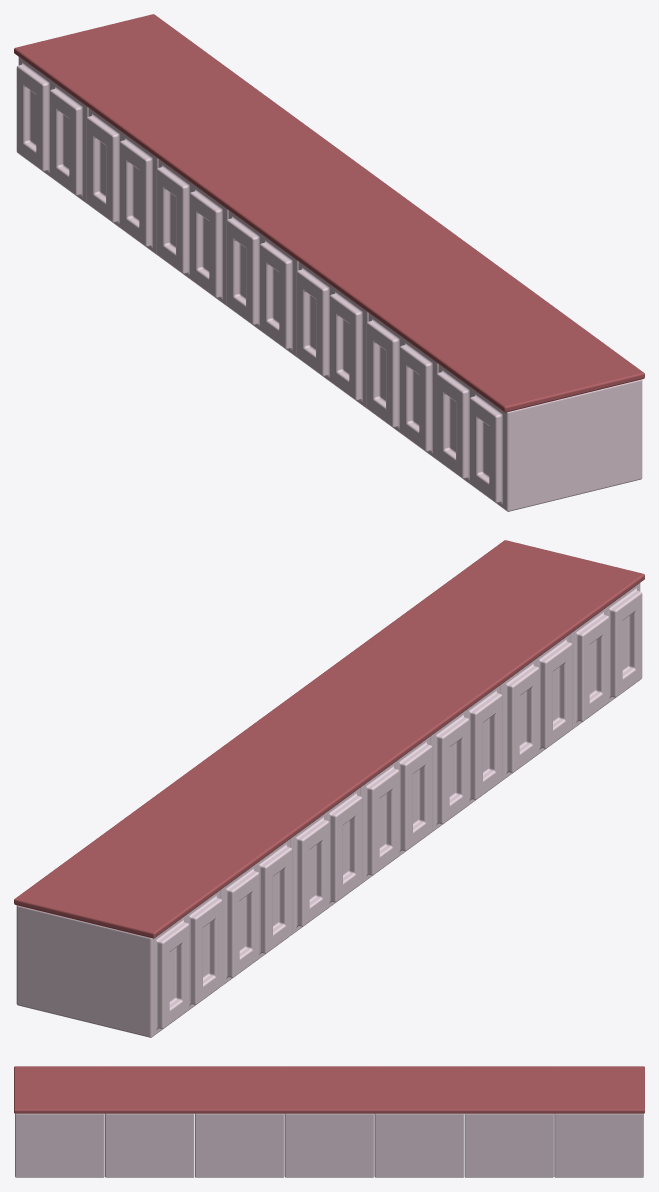
The model's file is worktop_pink.fbx.
3 views of the same model, one above another, from view 1: azimuth 30°, elevation 25°; view 2: azimuth 150°, elevation 25°; view 3: azimuth 270°, elevation 25° (orthographic). The views are drawn at different scales.
Visible parts, largest first — view 1: worktop_pink; view 2: worktop_pink; view 3: worktop_pink.
Boxes of the visible parts, bbox=[...] form: worktop_pink: bbox=[14, 14, 644, 511]; worktop_pink: bbox=[14, 540, 644, 1037]; worktop_pink: bbox=[14, 1066, 644, 1177].
Size of the model in its own units: 236 by 168 by 1397.
